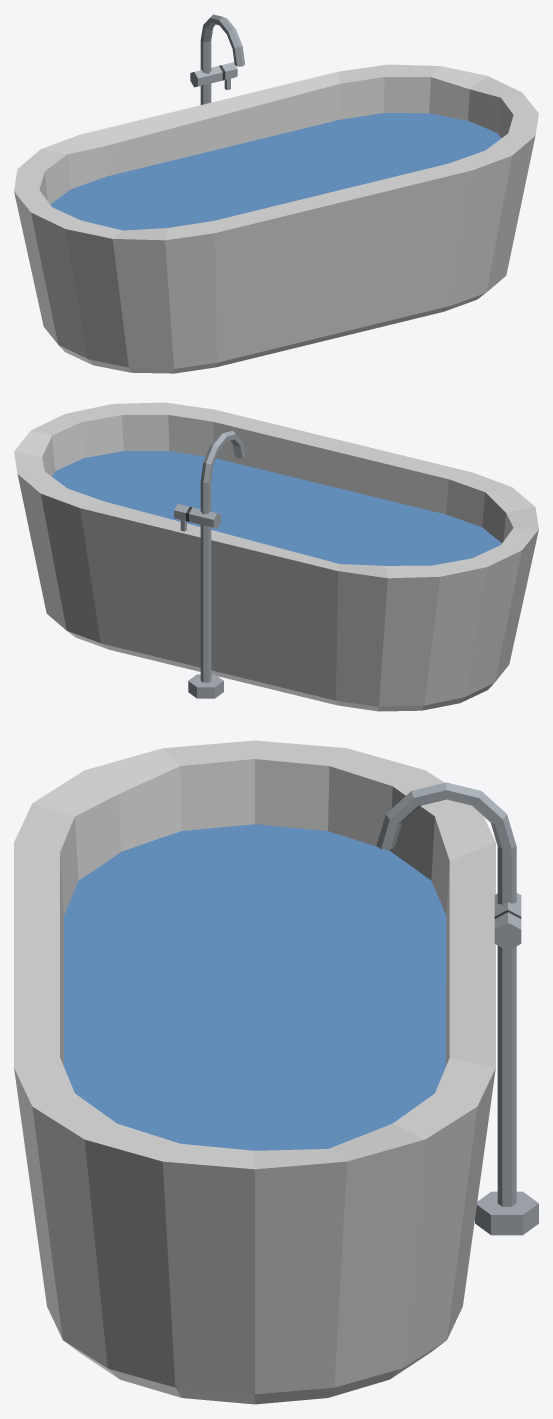
The model's file is SM_Prop_Bath_01.fbx.
3 views of the same model, one above another, from view 1: azimuth 30°, elevation 25°; view 2: azimuth 150°, elevation 25°; view 3: azimuth 270°, elevation 25° (orthographic). The views are drawn at different scales.
Parts seen in each view (by area): view 1: SM_Prop_Bath_01, SM_Prop_Bath_01_Water; view 2: SM_Prop_Bath_01, SM_Prop_Bath_01_Water; view 3: SM_Prop_Bath_01, SM_Prop_Bath_01_Water.
Part boxes in pixels (box(x1,y1,x2,y2)): SM_Prop_Bath_01: box(14, 14, 538, 373); SM_Prop_Bath_01_Water: box(50, 113, 501, 230); SM_Prop_Bath_01: box(14, 402, 538, 711); SM_Prop_Bath_01_Water: box(52, 451, 501, 565); SM_Prop_Bath_01: box(14, 740, 538, 1404); SM_Prop_Bath_01_Water: box(64, 824, 446, 1150).
Size of the model in its own units: 251 by 120 by 130.
